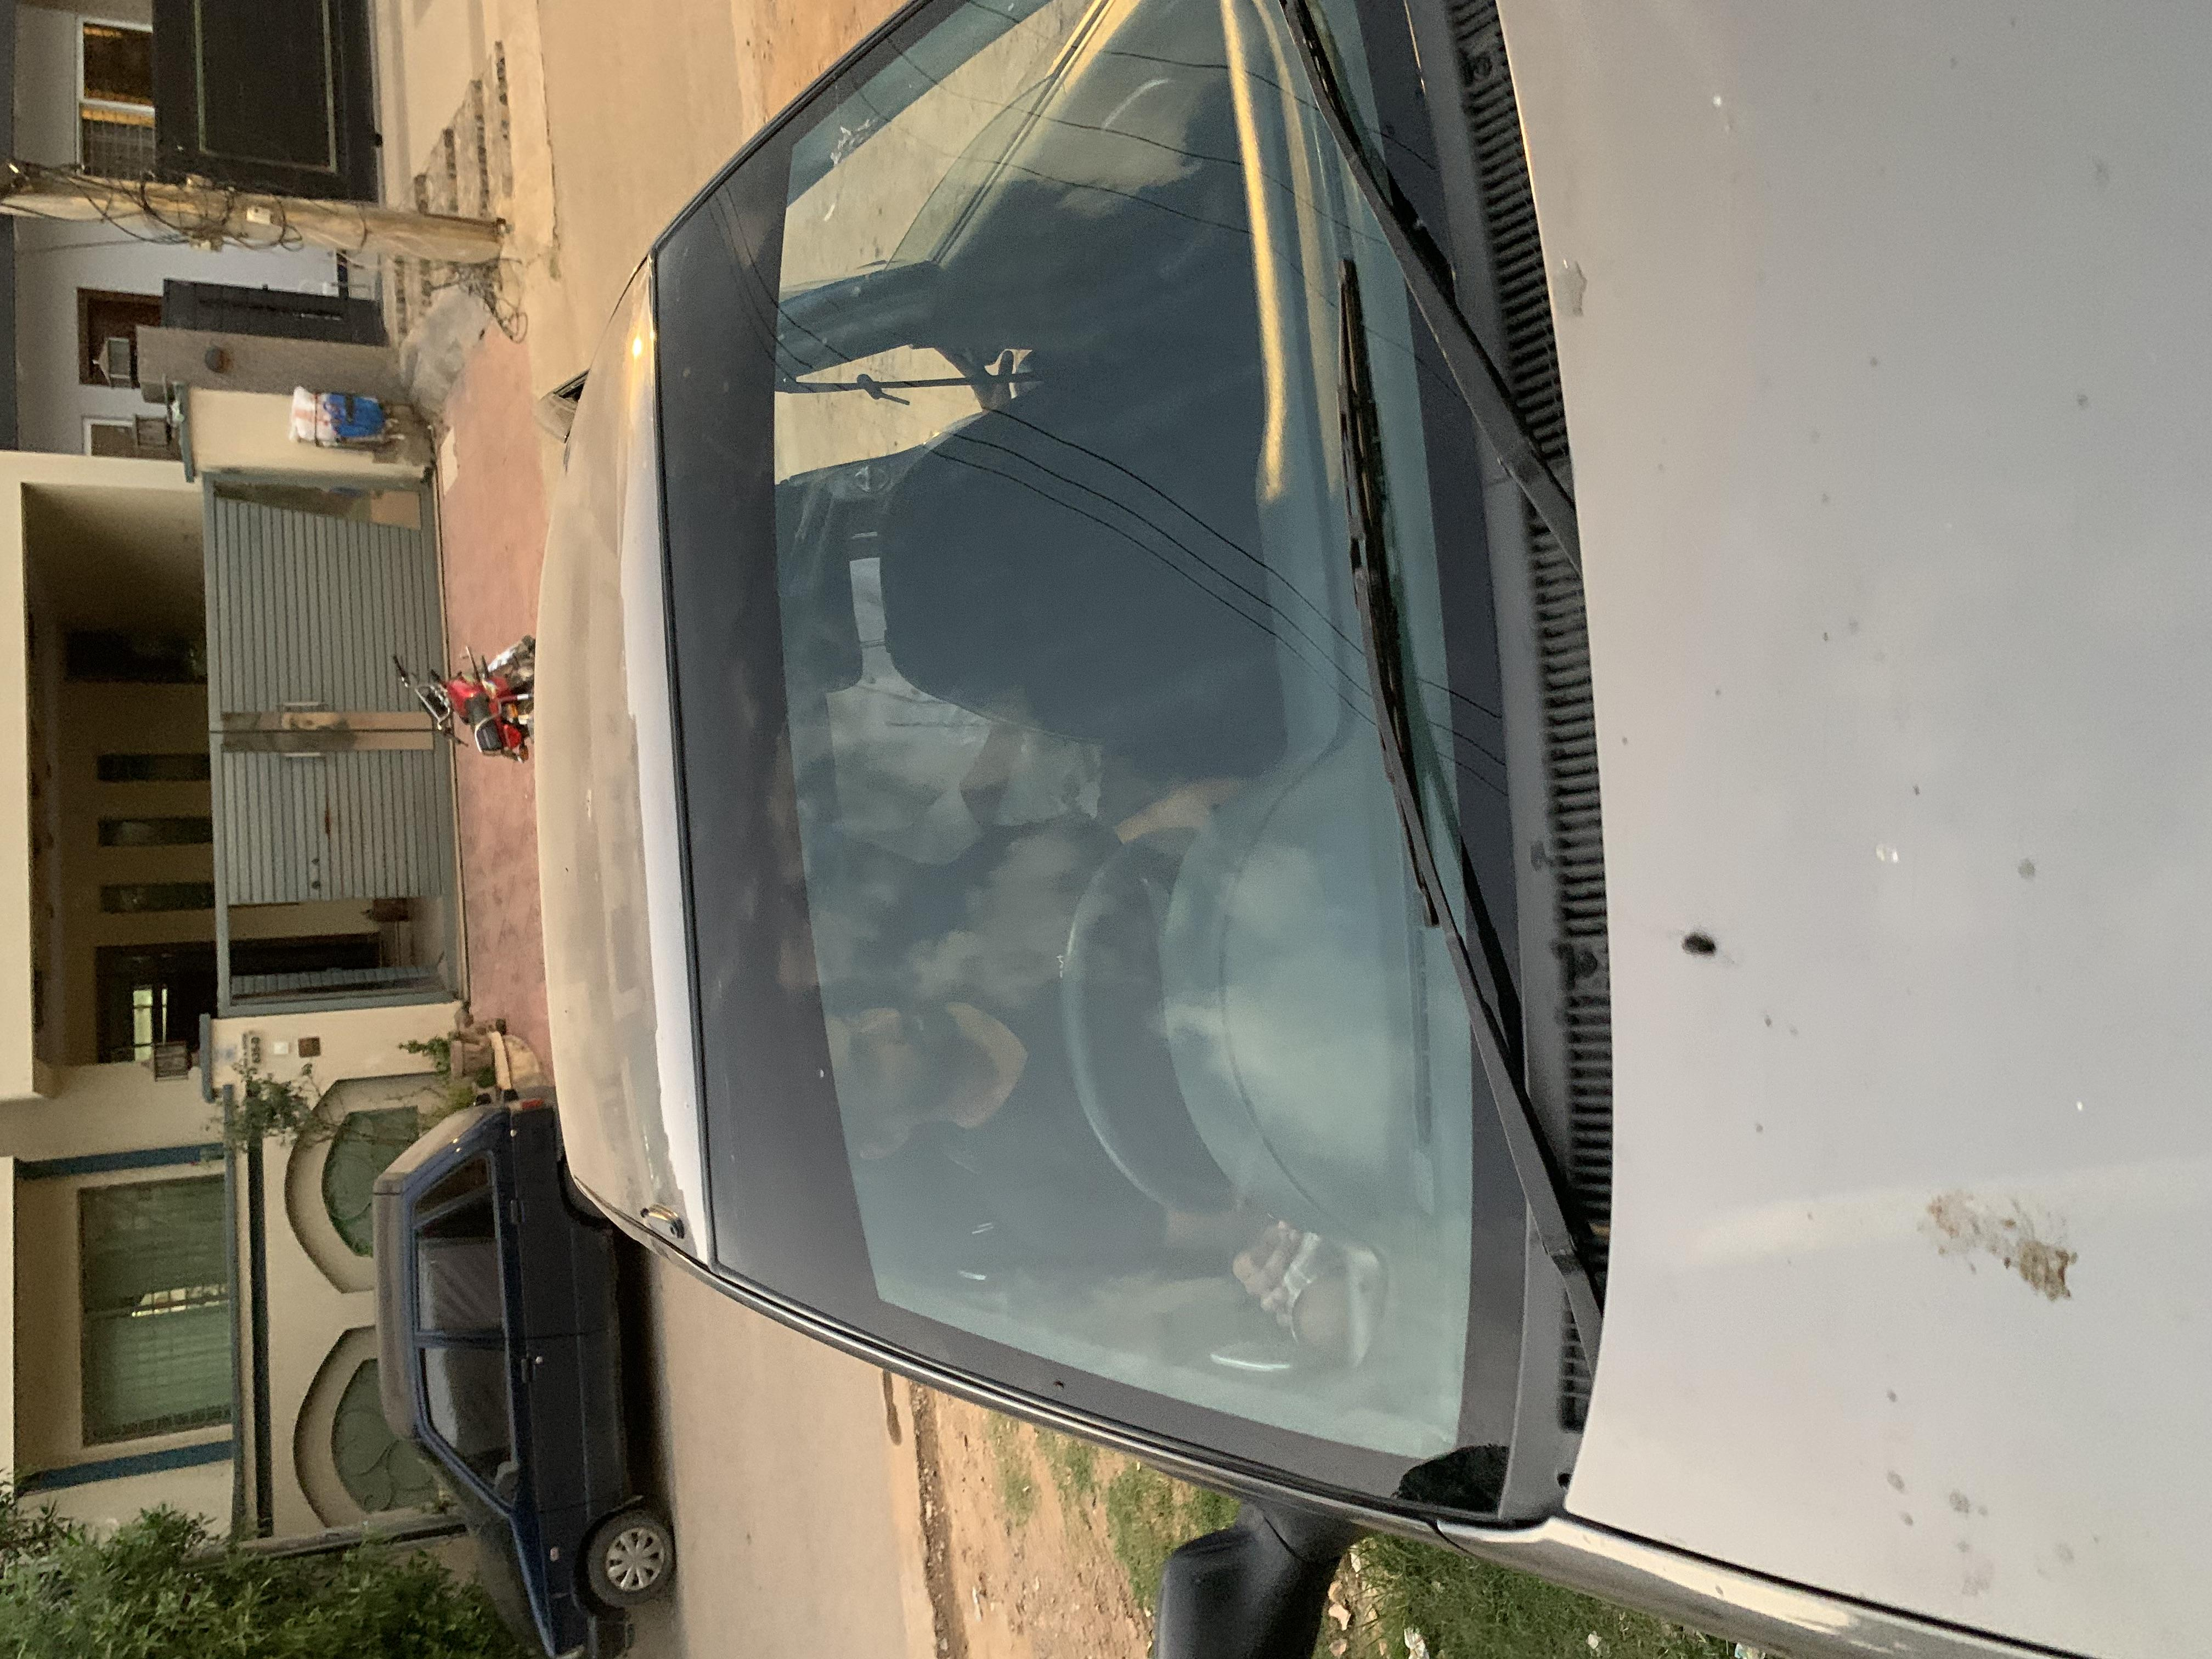windshield: (148, 465, 2212, 1197)
